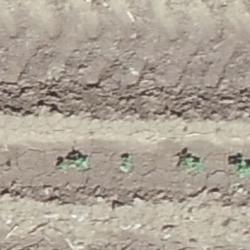cotton: (123, 158, 131, 171), (241, 163, 249, 174), (76, 160, 87, 167), (186, 158, 194, 165), (194, 162, 202, 169), (60, 162, 67, 168)
